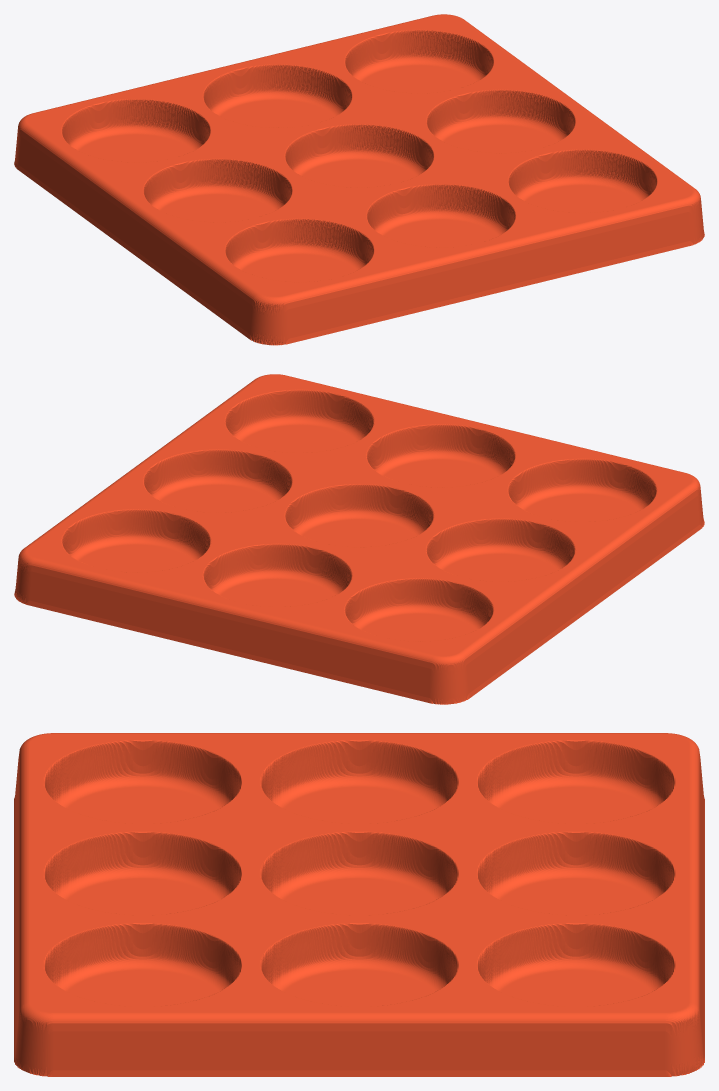
The model's file is mold.glb.
3 views of the same model, one above another, from view 1: azimuth 30°, elevation 25°; view 2: azimuth 150°, elevation 25°; view 3: azimuth 270°, elevation 25° (orthographic). The views are drawn at different scales.
Parts seen in each view (by area): view 1: geometry_0; view 2: geometry_0; view 3: geometry_0.
Part boxes in pixels (left/top/right/bottom): geometry_0: left=14, top=14, right=704, bottom=345; geometry_0: left=14, top=374, right=704, bottom=704; geometry_0: left=14, top=733, right=704, bottom=1076.
Bounding box in the file's own units: 0.1579 × 0.0145 × 0.1579.
